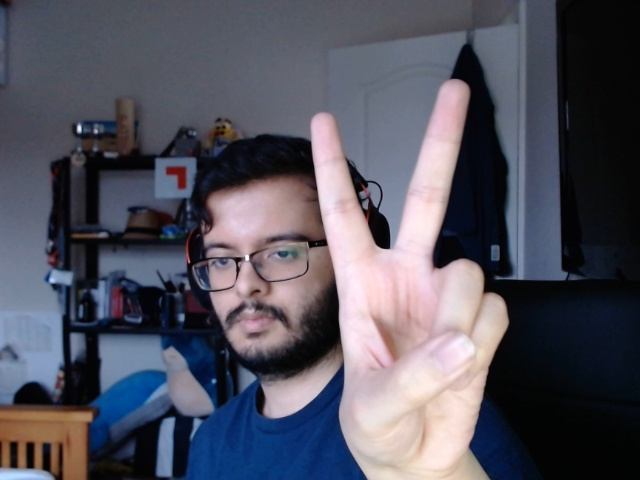Peace: (285, 69, 553, 480)
